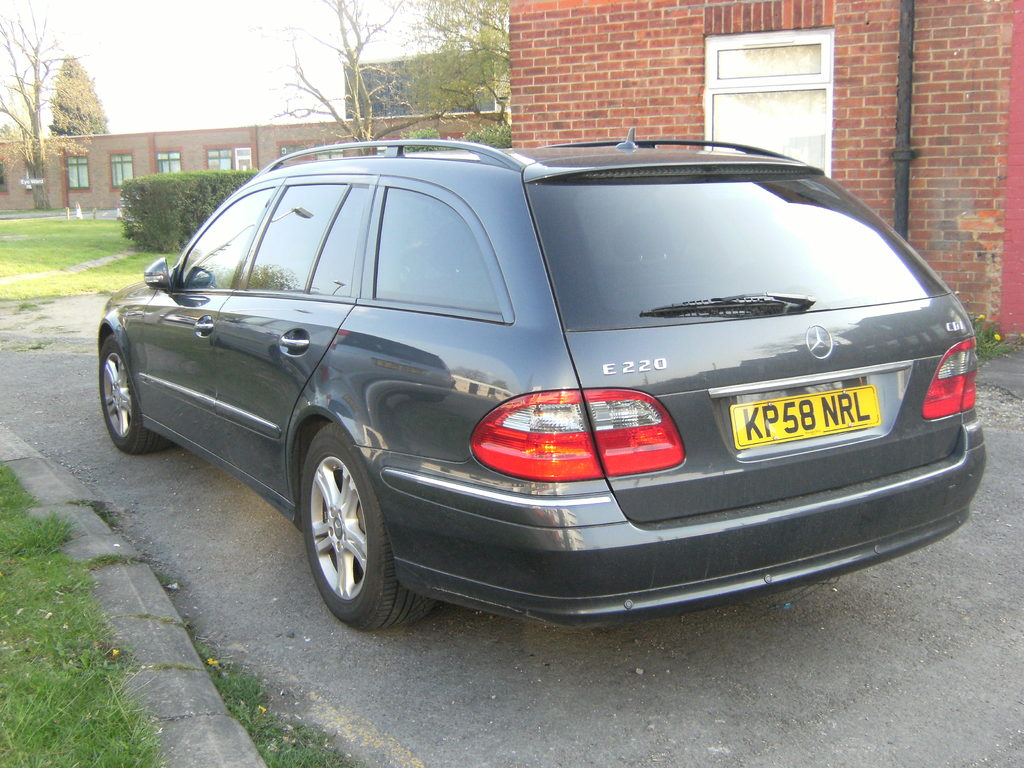license plate: (726, 407, 881, 456)
